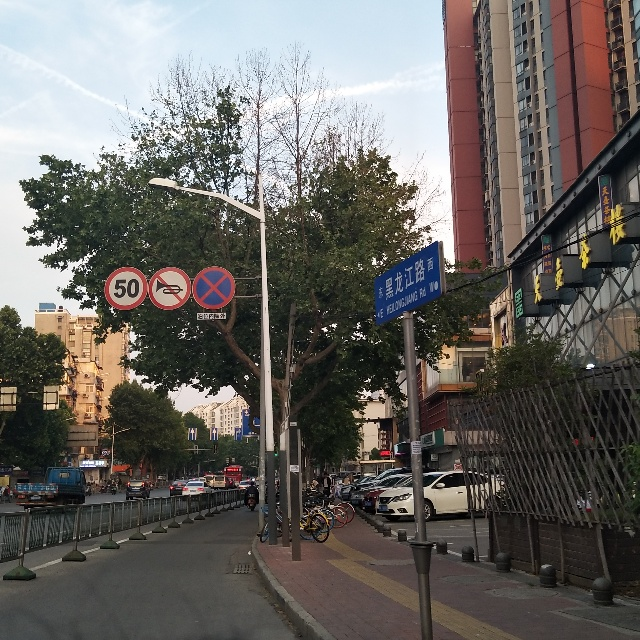nohonk: (148, 267, 191, 310)
stop: (193, 266, 235, 309)
